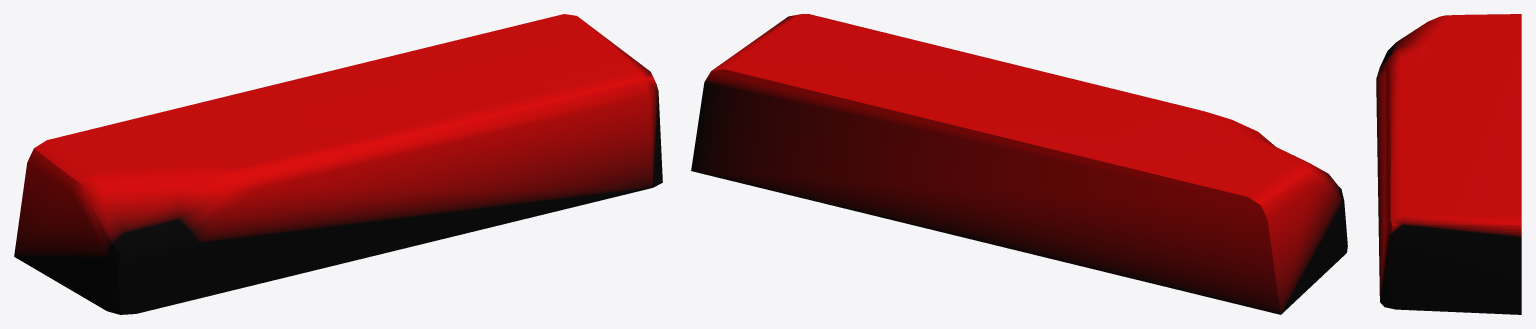
The model's file is curb_02.fbx.
The picture shows the model from 3 angles, left to right: view 1: azimuth 30°, elevation 25°; view 2: azimuth 150°, elevation 25°; view 3: azimuth 270°, elevation 25°; orthographic projection. The views are drawn at different scales.
Visible parts, largest first — view 1: Curb2; view 2: Curb2; view 3: Curb2.
Part boxes in pixels (left/top/right/bottom): Curb2: left=14, top=14, right=662, bottom=314; Curb2: left=691, top=14, right=1347, bottom=314; Curb2: left=1376, top=14, right=1521, bottom=314.
Bounding box in the file's own units: 43.33 × 7.72 × 11.78.
